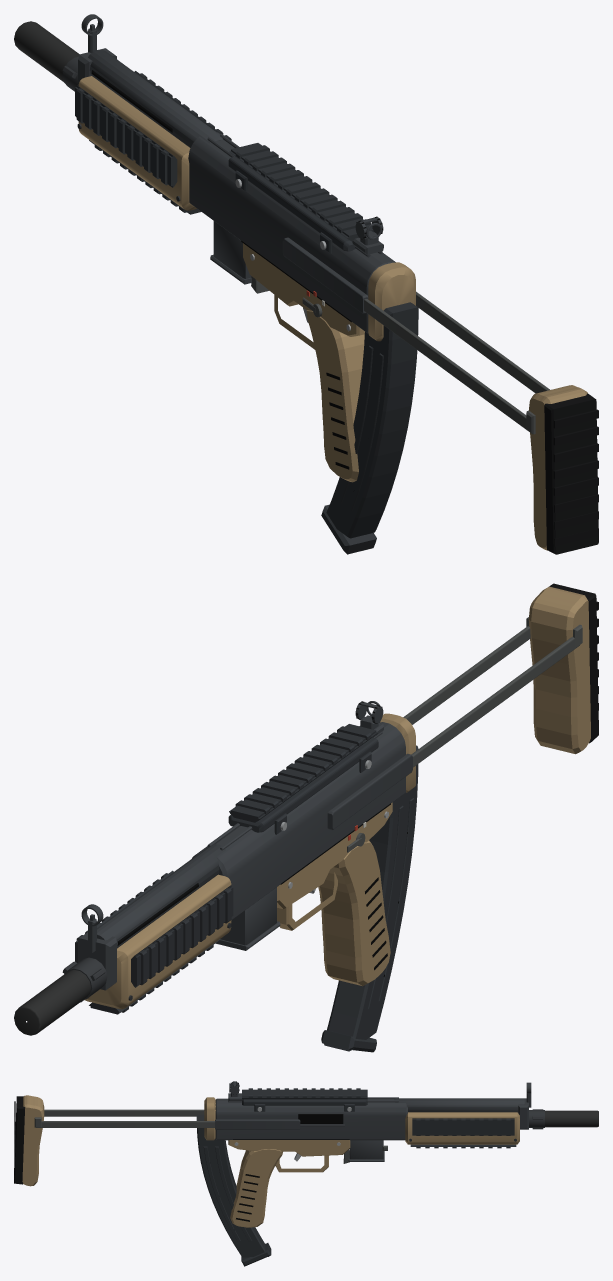
Rendered from weapon-54-CRVAy4E-.glb.
3 views of the same model, one above another, from view 1: azimuth 30°, elevation 25°; view 2: azimuth 150°, elevation 25°; view 3: azimuth 270°, elevation 25° (orthographic). The views are drawn at different scales.
Parts seen in each view (by area): view 1: salient_weapon_body, salient_weapon_magazine, salient_weapon_iron; view 2: salient_weapon_body, salient_weapon_magazine, salient_weapon_iron; view 3: salient_weapon_body, salient_weapon_magazine, salient_weapon_iron.
Part boxes in pixels (bbox=[...]): salient_weapon_body: bbox=[14, 21, 598, 554]; salient_weapon_magazine: bbox=[321, 302, 418, 554]; salient_weapon_iron: bbox=[81, 14, 383, 254]; salient_weapon_body: bbox=[14, 583, 598, 1035]; salient_weapon_magazine: bbox=[321, 745, 418, 1052]; salient_weapon_iron: bbox=[81, 701, 383, 953]; salient_weapon_body: bbox=[14, 1088, 598, 1227]; salient_weapon_magazine: bbox=[196, 1114, 271, 1266]; salient_weapon_iron: bbox=[228, 1081, 531, 1107].
Bounding box in the file's own units: 0.0456 × 0.2218 × 0.652.
